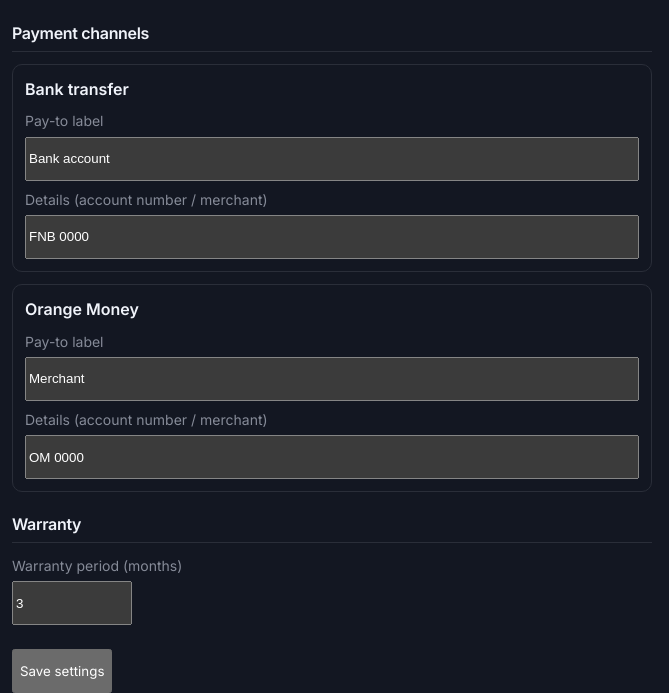
Test case: SettingsForm › shows success message after save
The width and height of the screenshot is (669, 693).
(page scrolled)
Click the button "Save settings" at [62, 671], box [12, 649, 112, 692]
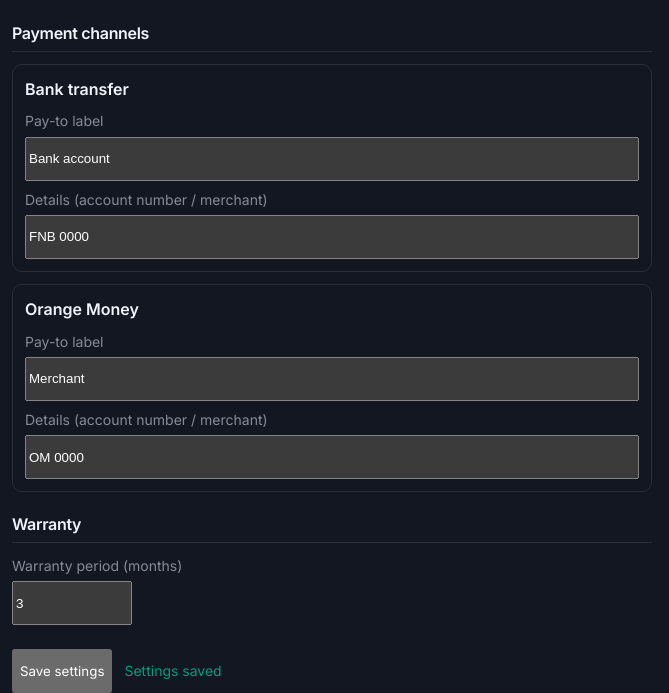
Result: the text "Settings saved" is shown at [124, 660, 222, 682]
